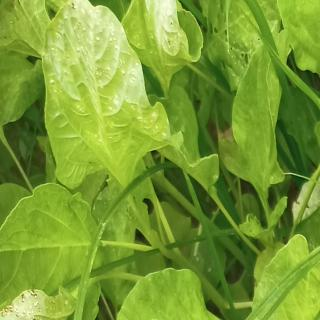karat_putih: (39, 1, 170, 182), (130, 2, 196, 81), (1, 279, 66, 320)
